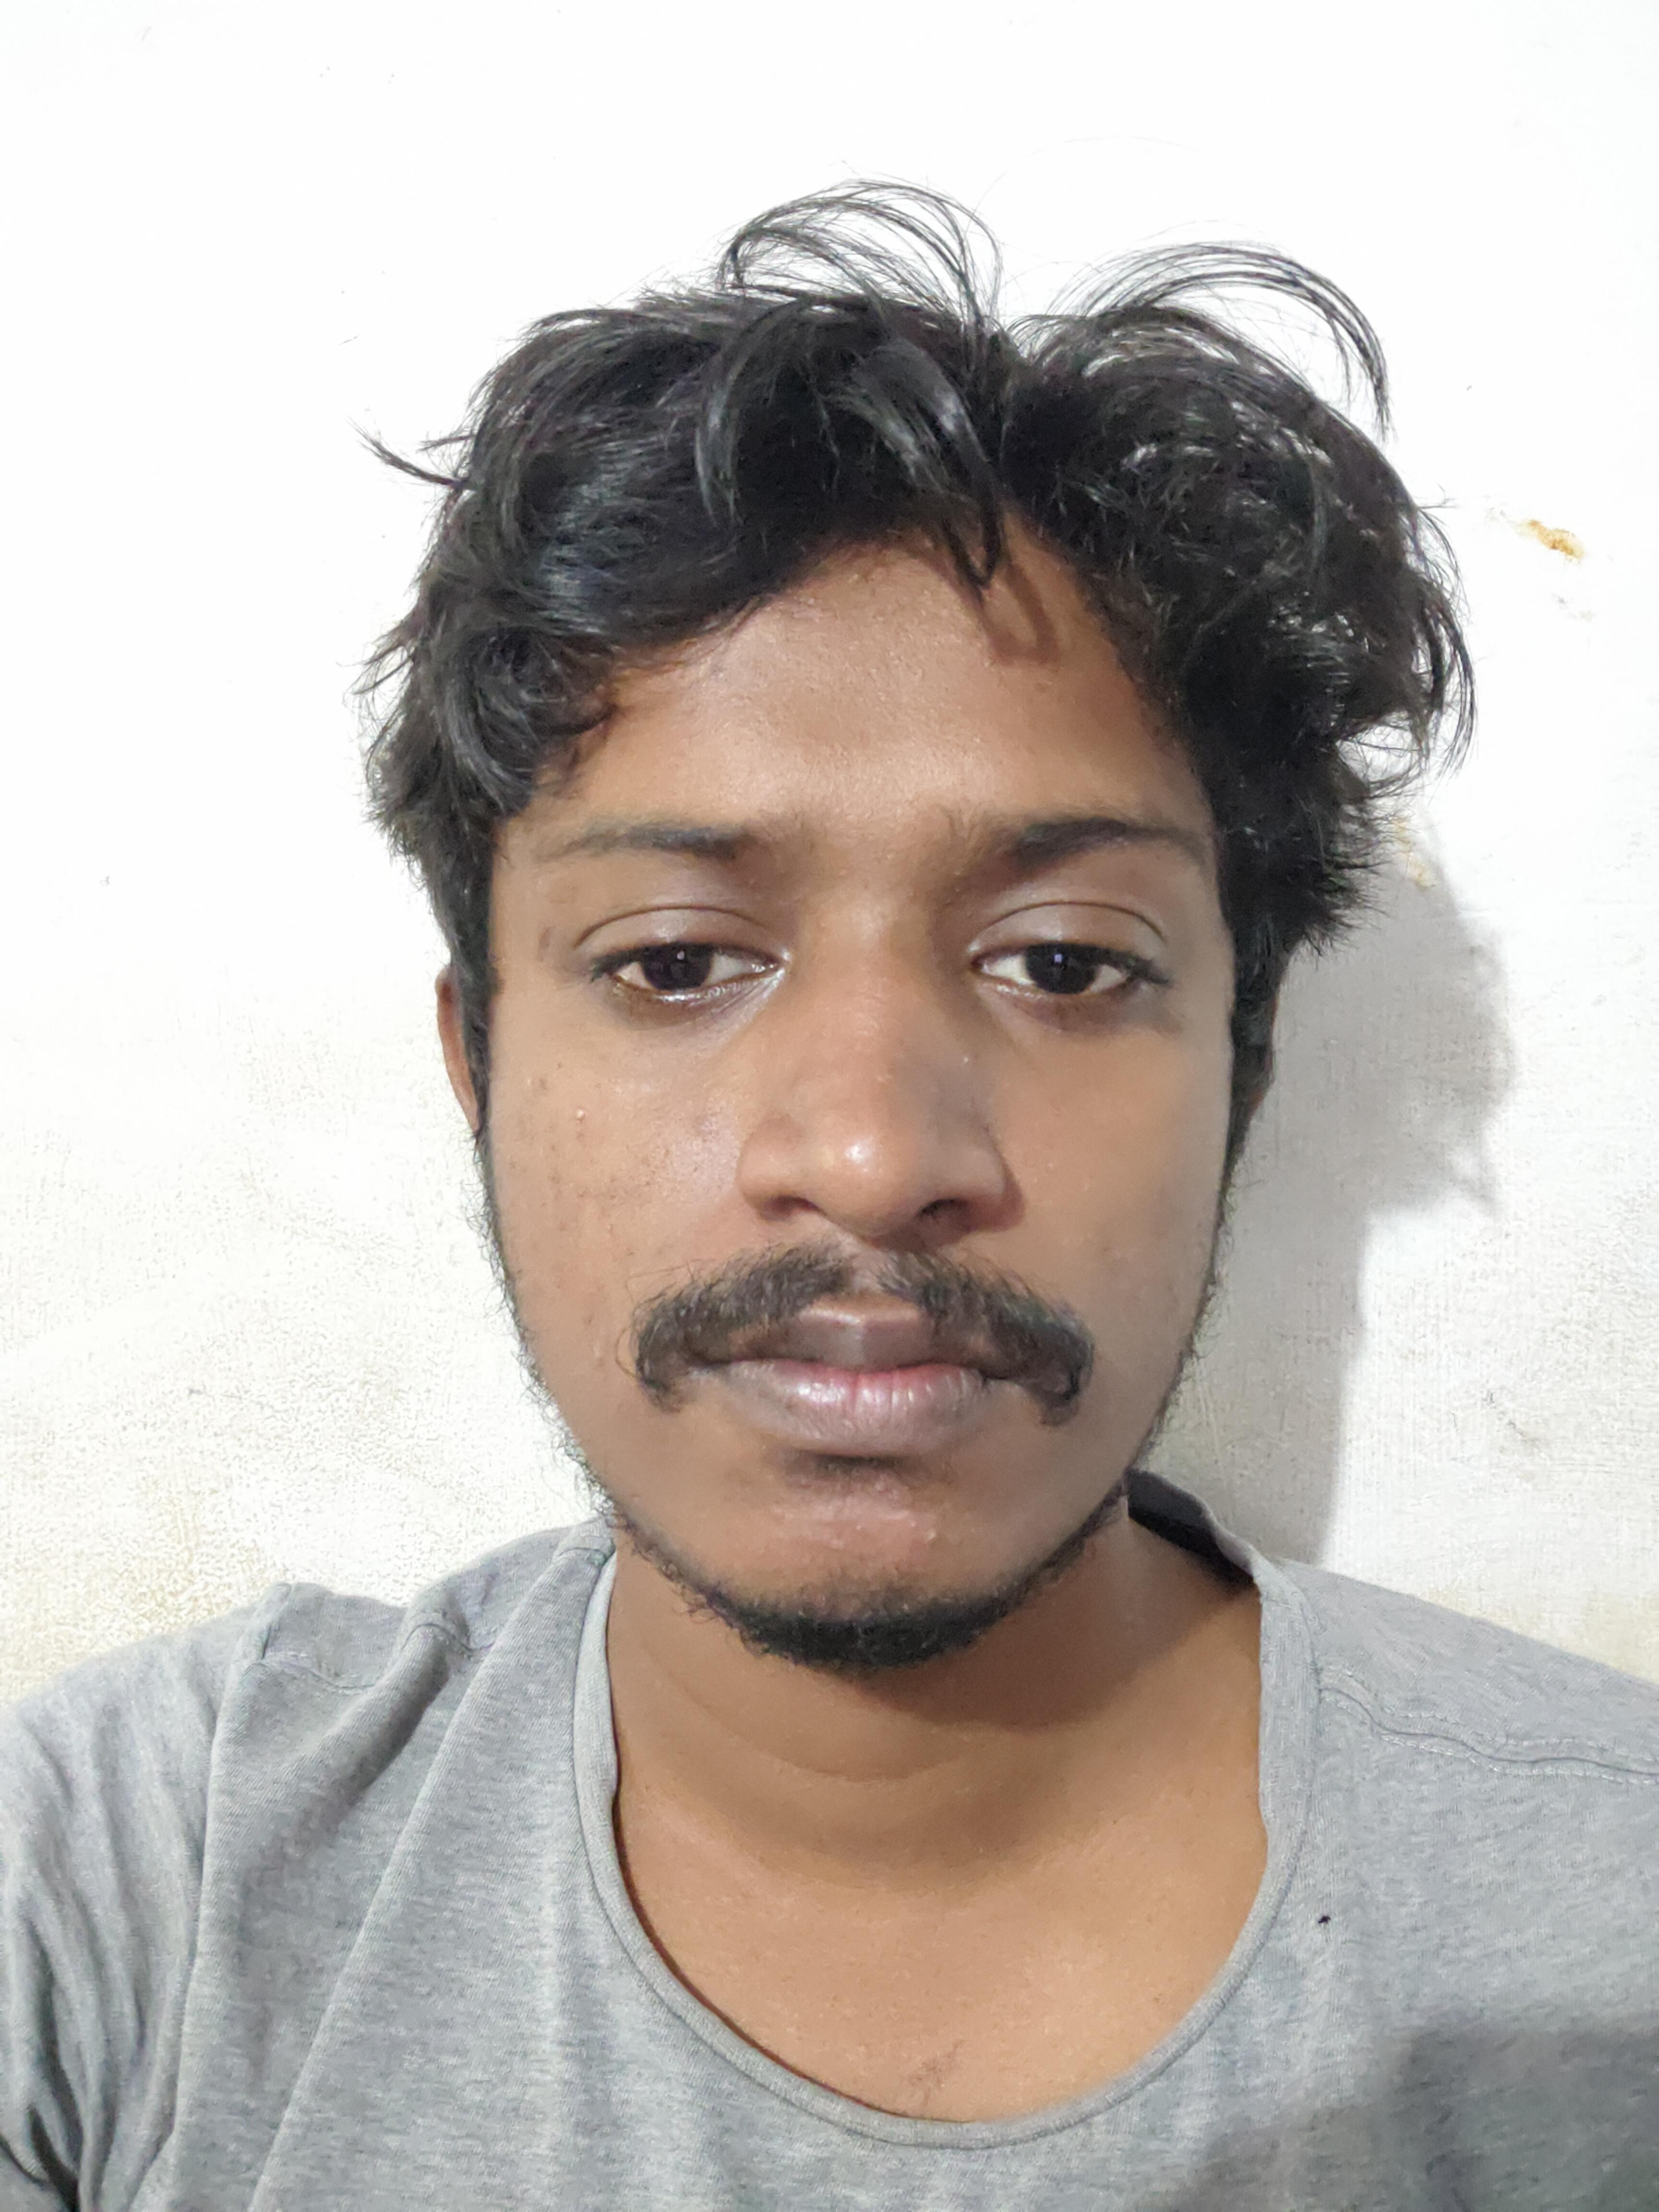Acne: (943, 864, 979, 927), (953, 1042, 993, 1083), (908, 1512, 946, 1554), (829, 1519, 868, 1557), (584, 1341, 615, 1386), (744, 871, 777, 909), (868, 1057, 901, 1090), (769, 1503, 803, 1534), (563, 1103, 598, 1127), (1032, 1158, 1068, 1181), (826, 862, 857, 888), (875, 1477, 901, 1507), (518, 1073, 547, 1097), (795, 1468, 821, 1491), (899, 880, 922, 906), (753, 1437, 777, 1460), (810, 916, 836, 935), (880, 846, 899, 867)
Englarged-Pores: (530, 1139, 713, 1252)
